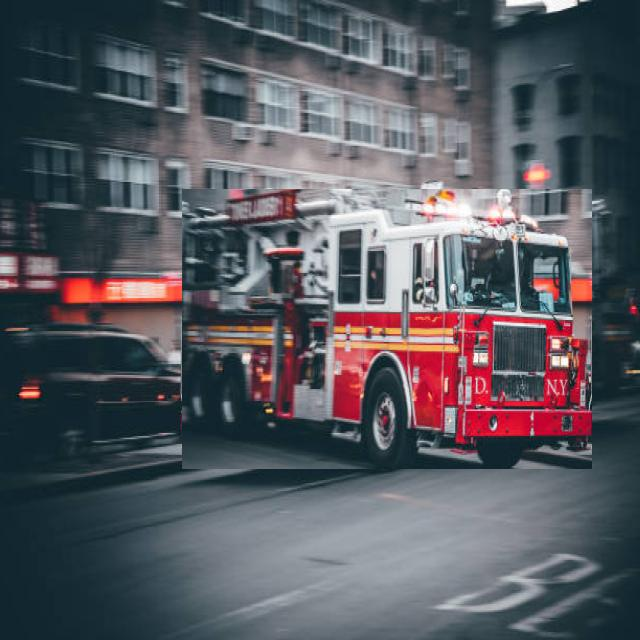emergency: (182, 189, 591, 469)
